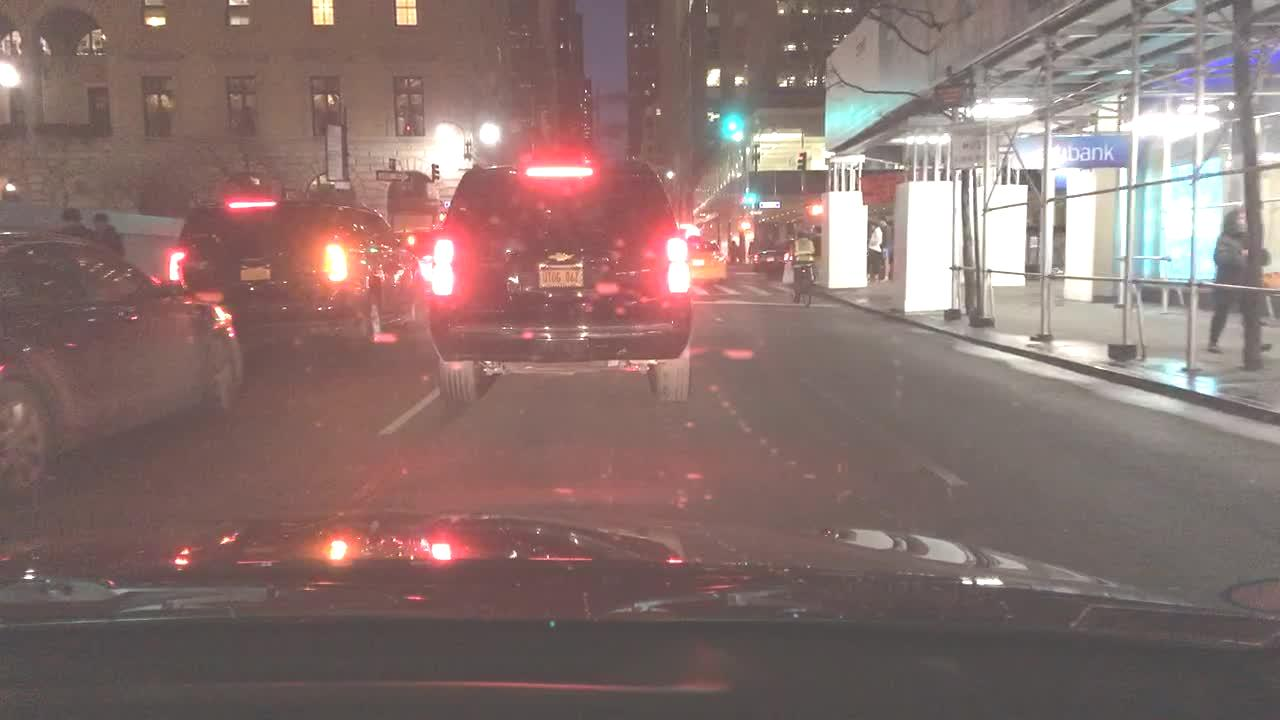chevrolet: (538, 244, 587, 267)
